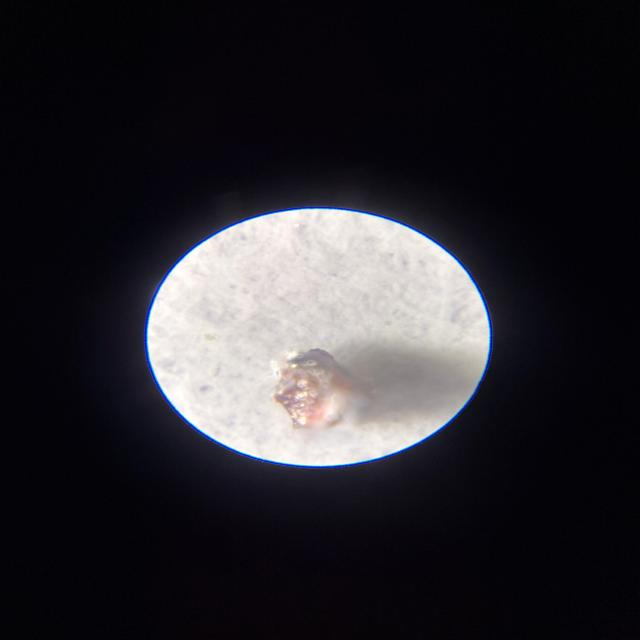microplastic_type_0: (273, 348, 373, 429)
